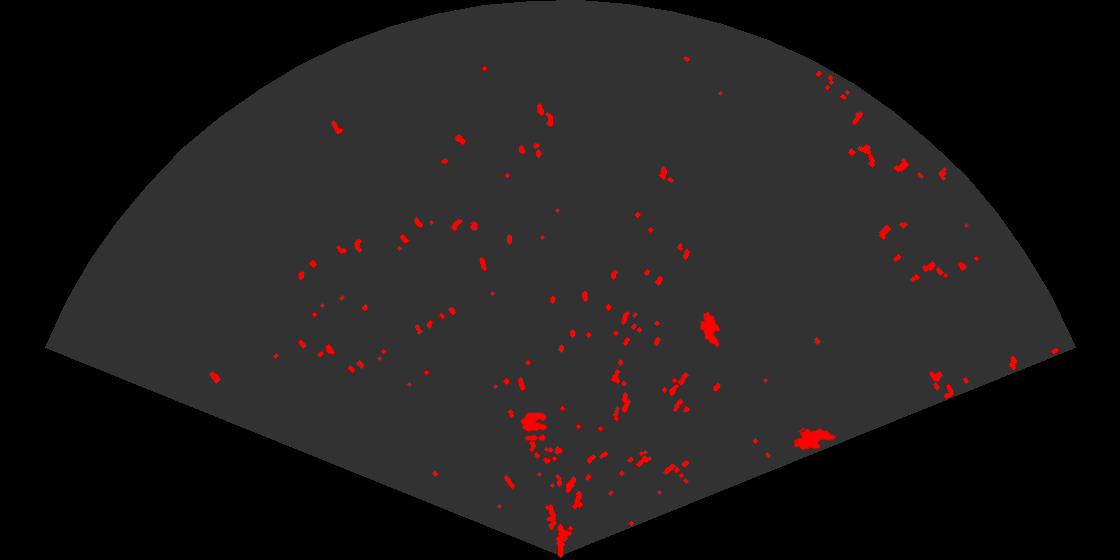AUV: (792, 427, 838, 452), (698, 310, 722, 349)
ball: (519, 411, 549, 442)
